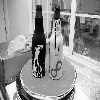beer: (32, 4, 47, 79)
